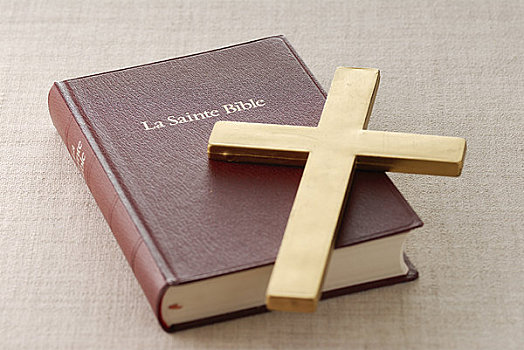book: (34, 32, 426, 331)
